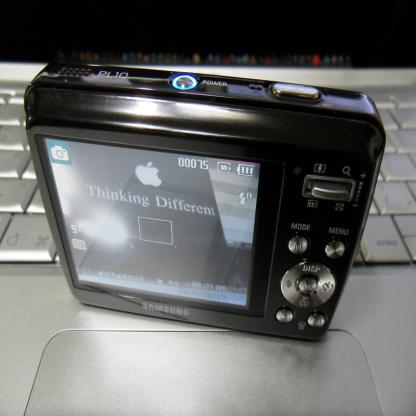Camera: (20, 64, 390, 346)
